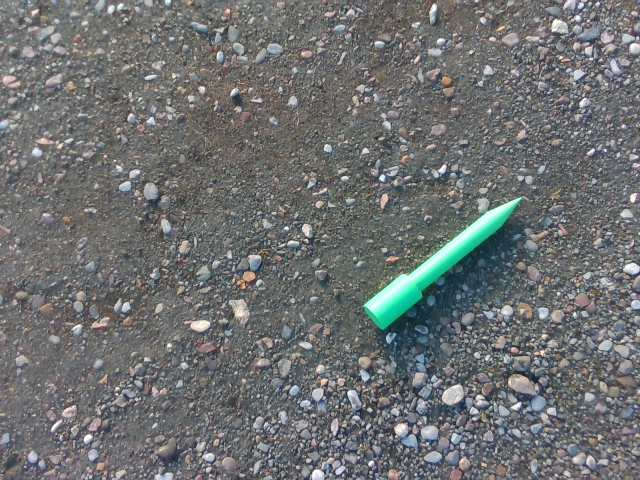Probe: (357, 187, 528, 338)
